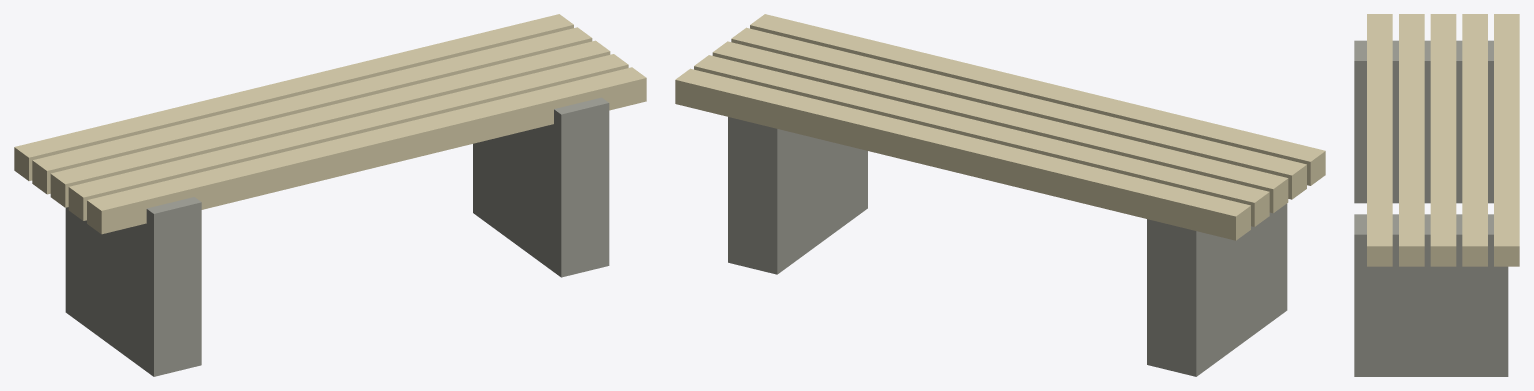
The model's file is bench_stone.glb.
The picture shows the model from 3 angles, left to right: view 1: azimuth 30°, elevation 25°; view 2: azimuth 150°, elevation 25°; view 3: azimuth 270°, elevation 25°; orthographic projection. The views are drawn at different scales.
Visible parts, largest first — view 1: bench_stone; view 2: bench_stone; view 3: bench_stone.
Part boxes in pixels (left/top/right/bottom): bench_stone: left=14, top=14, right=646, bottom=376; bench_stone: left=675, top=14, right=1325, bottom=376; bench_stone: left=1354, top=14, right=1519, bottom=376.
Bounding box in the file's own units: 1.82 × 0.5475 × 0.5475.
